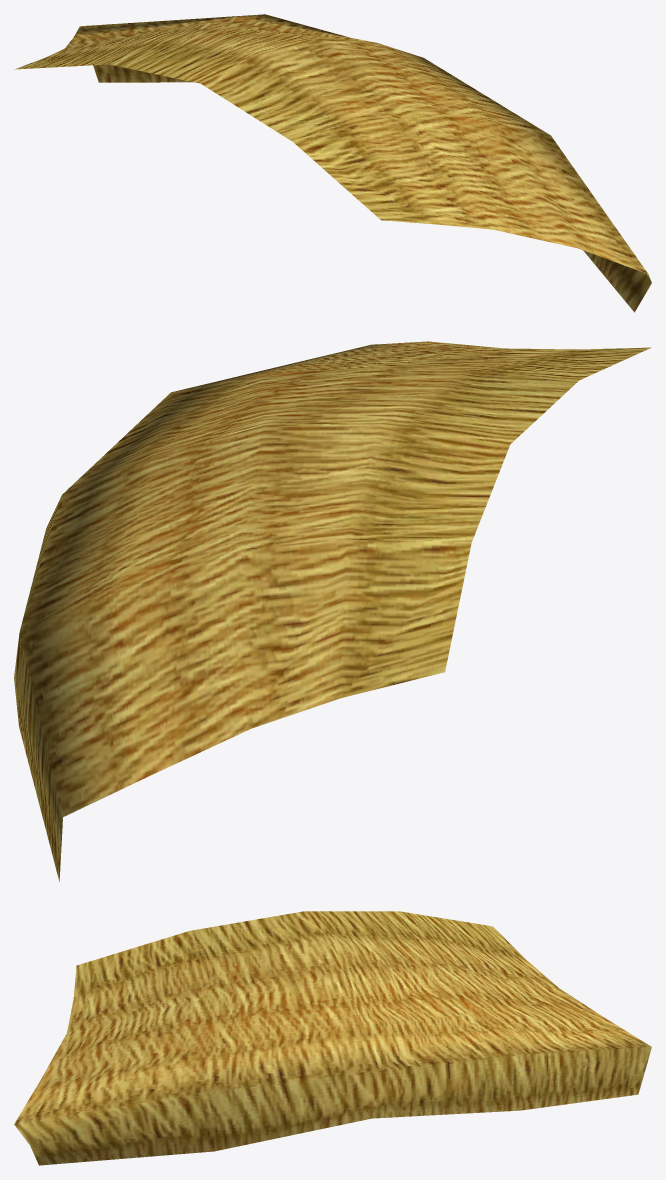
The model's file is HTOWN01_HANNA-AWNING.fbx.
3 views of the same model, one above another, from view 1: azimuth 30°, elevation 25°; view 2: azimuth 150°, elevation 25°; view 3: azimuth 270°, elevation 25° (orthographic). The views are drawn at different scales.
Parts seen in each view (by area): view 1: HTOWN01_HANNA-AWNING; view 2: HTOWN01_HANNA-AWNING; view 3: HTOWN01_HANNA-AWNING.
Part boxes in pixels (x1,y1,x2,y2): HTOWN01_HANNA-AWNING: (14,14,651,312); HTOWN01_HANNA-AWNING: (14,341,650,881); HTOWN01_HANNA-AWNING: (14,911,651,1165).
Size of the model in its own units: 24932 by 11577 by 45372.
2 materials, 2 textured.
